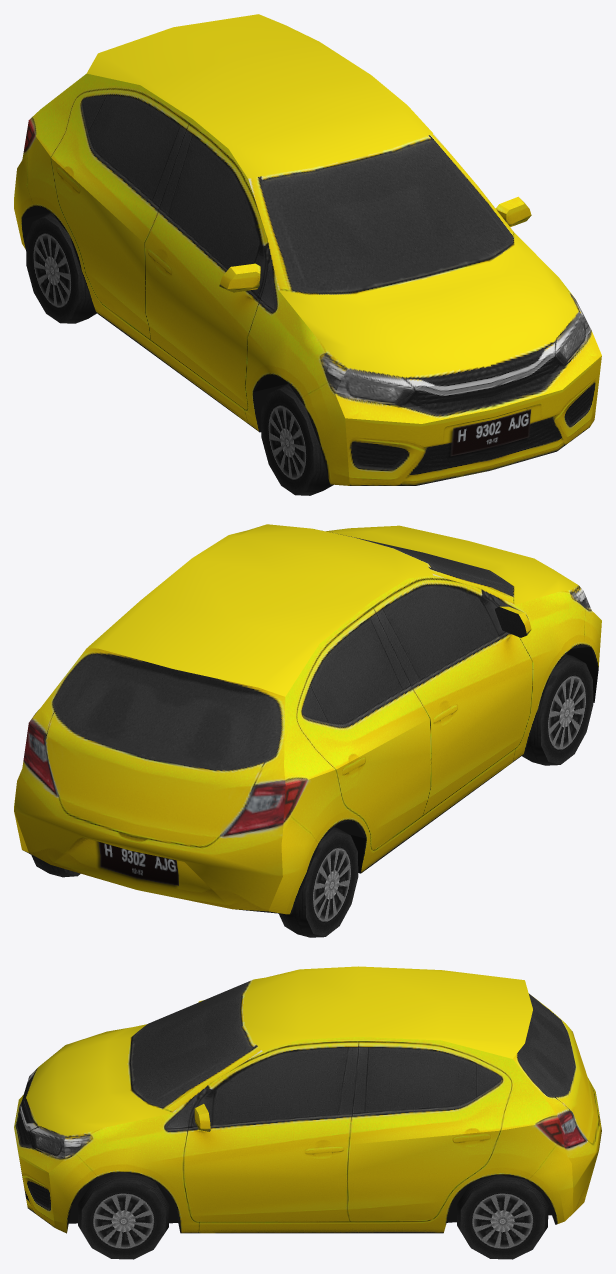
Rendered from brio.fbx.
3 views of the same model, one above another, from view 1: azimuth 30°, elevation 25°; view 2: azimuth 150°, elevation 25°; view 3: azimuth 270°, elevation 25° (orthographic). The views are drawn at different scales.
Parts seen in each view (by area): view 1: bodyhatchback1, wheel, wheel.001; view 2: bodyhatchback1, wheel, wheel.001; view 3: bodyhatchback1, wheel.002, wheel.003.
Boxes of the visible parts, x1,y1,x2,y2 form: bodyhatchback1: (14,14,601,485); wheel: (261,384,333,495); wheel.001: (26,213,96,323); bodyhatchback1: (14,524,601,914); wheel: (522,654,593,765); wheel.001: (279,827,358,937); bodyhatchback1: (14,966,601,1233); wheel.002: (78,1172,169,1259); wheel.003: (457,1175,548,1259).
Bounding box in the file's own units: 186 × 150 × 381.
Materials: 1 (1 with a texture image).
